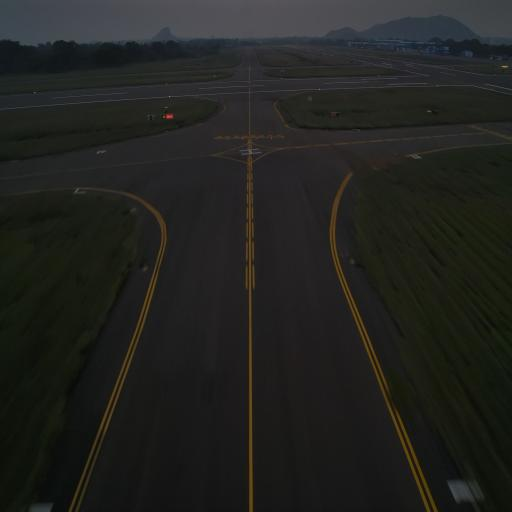on: (270, 134, 274, 143), (240, 136, 245, 142), (227, 136, 230, 143), (256, 135, 259, 141)
